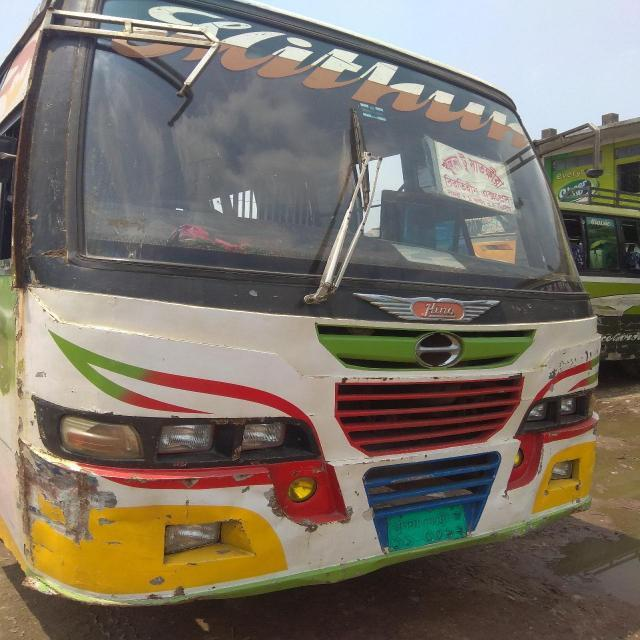numberplate: (384, 502, 468, 553)
